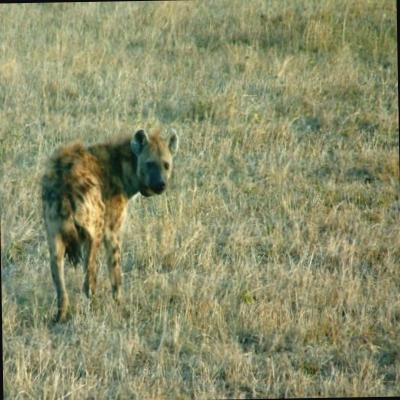hyenas: (27, 98, 206, 355)
